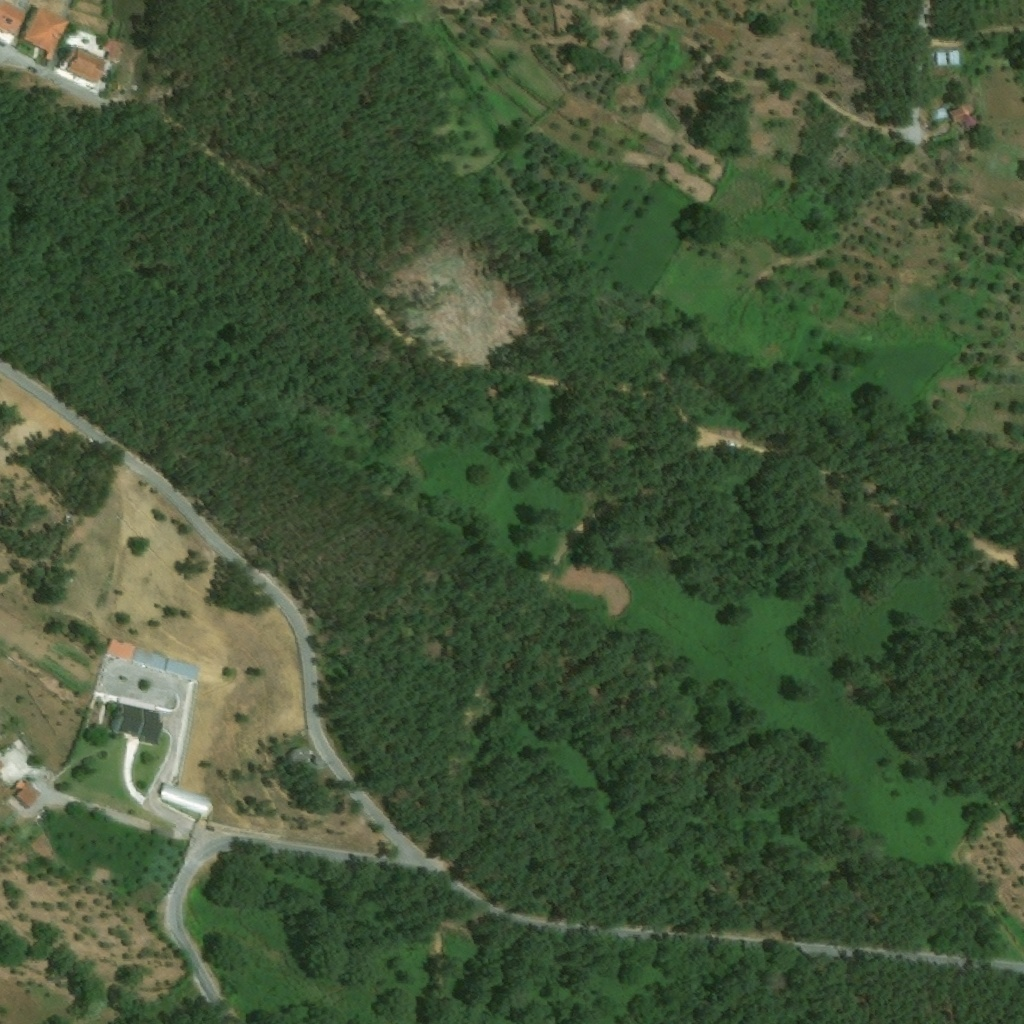0 no-damage: (107, 638, 200, 681), (64, 30, 124, 84), (24, 7, 71, 60), (108, 701, 163, 745), (160, 783, 213, 814), (0, 0, 26, 38), (13, 781, 39, 810), (288, 746, 320, 769), (935, 49, 960, 66), (949, 104, 972, 122)
